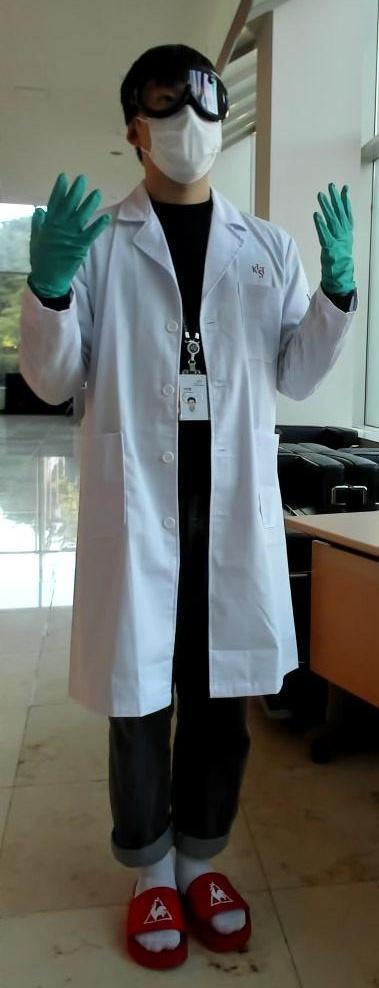lab_coat: (22, 296, 338, 685)
